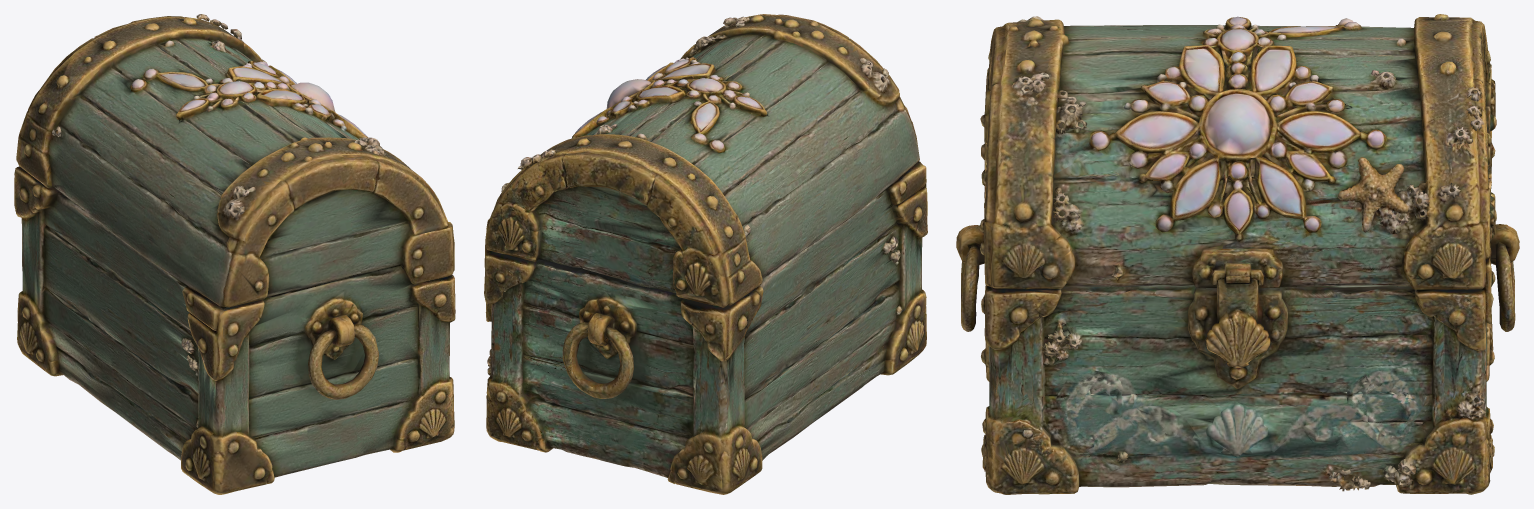
Rendered from SM_TreasureChest.glb.
The picture shows the model from 3 angles, left to right: view 1: azimuth 30°, elevation 25°; view 2: azimuth 150°, elevation 25°; view 3: azimuth 270°, elevation 25°; orthographic projection. The views are drawn at different scales.
Visible parts, largest first — view 1: tripo_node_eaa662ec-79fc-4539-b2c4-f113398c7e67; view 2: tripo_node_eaa662ec-79fc-4539-b2c4-f113398c7e67; view 3: tripo_node_eaa662ec-79fc-4539-b2c4-f113398c7e67.
Boxes of the visible parts, bbox=[...] form: tripo_node_eaa662ec-79fc-4539-b2c4-f113398c7e67: bbox=[14, 14, 455, 494]; tripo_node_eaa662ec-79fc-4539-b2c4-f113398c7e67: bbox=[484, 14, 927, 494]; tripo_node_eaa662ec-79fc-4539-b2c4-f113398c7e67: bbox=[956, 14, 1519, 494].
Size of the model in its own units: 0.6509 by 0.7499 by 0.9795.
Materials: 1 (1 with a texture image).
